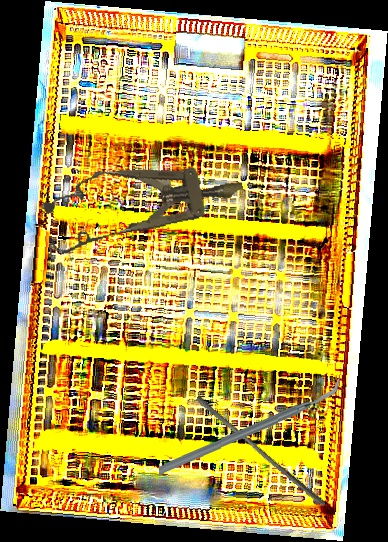Chopper: (157, 376, 342, 477)
Pusher: (191, 395, 331, 507)
Speculum: (37, 147, 250, 260)
